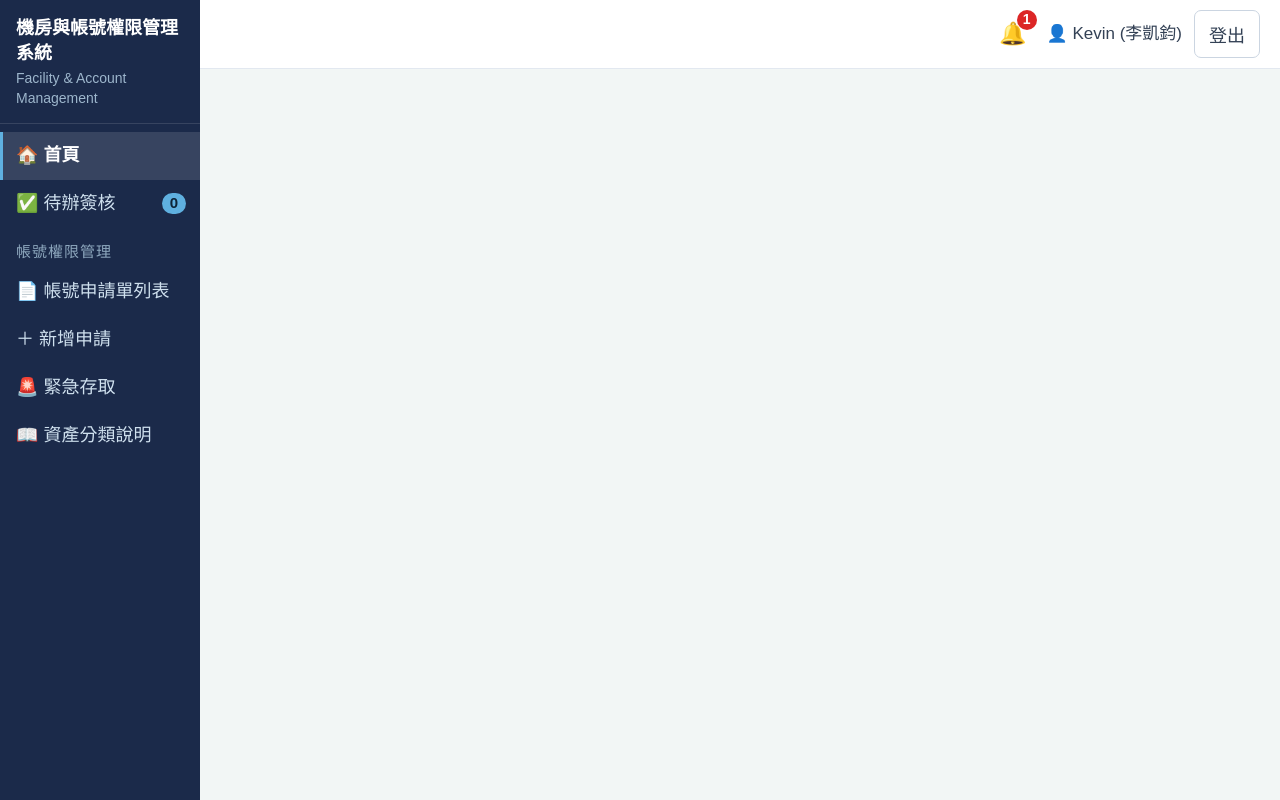
AppLayout › 鈴鐺分類：無 EMG_VIEW_ALL（原申請人）點類別 3 開明細彈窗；無到期資料時不顯示到期節
Expected: the text with class "bell-badge" reads "1", [1023,11,1030,27]
Click the button with class "bell-btn" at point(1013, 34), box [991,10,1034,58]
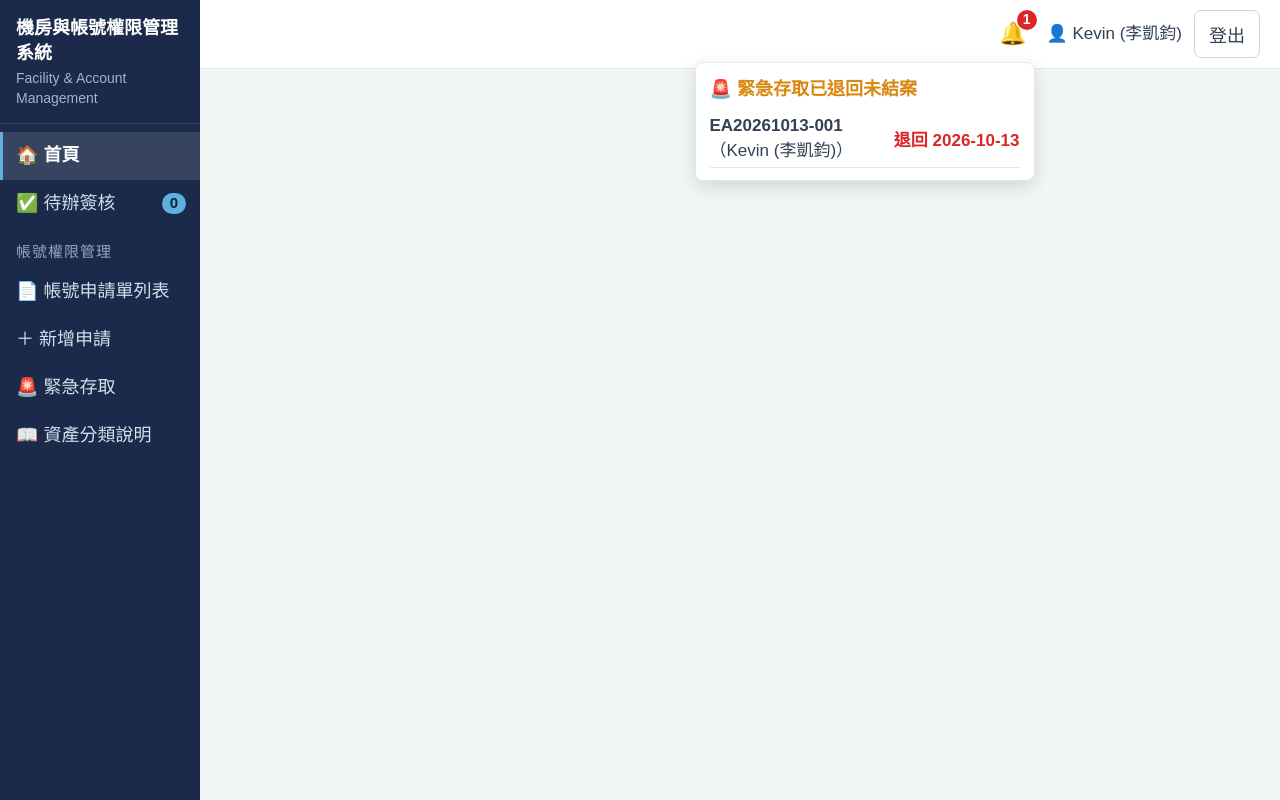
Expected: the elements with class "bell-panel-title" read "🚨 緊急存取已退回未結案", in this order, [710,79,917,99]
Click the button with class "bell-emg" at point(776, 125), box [710,110,1020,168]
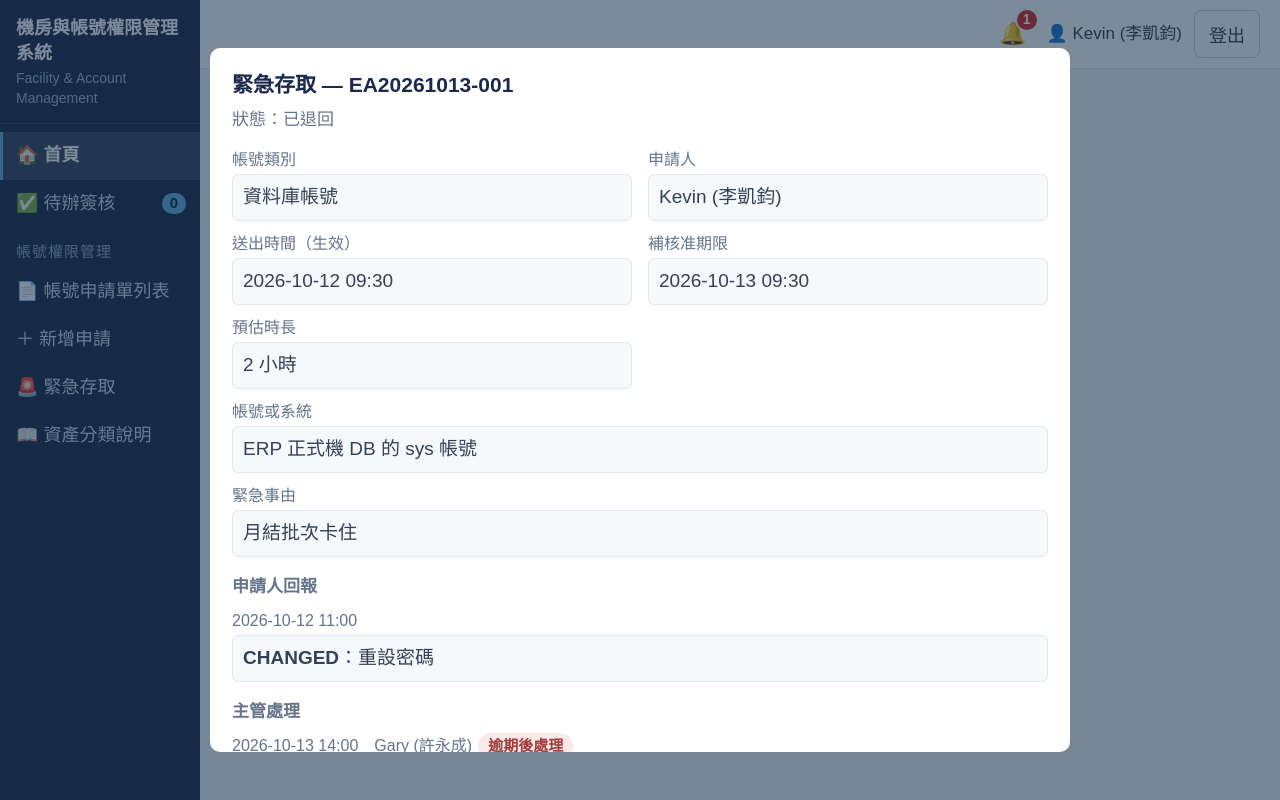
Expected: the dialog with class "modal" shows "EA20261013-001", [232,73,513,96]
